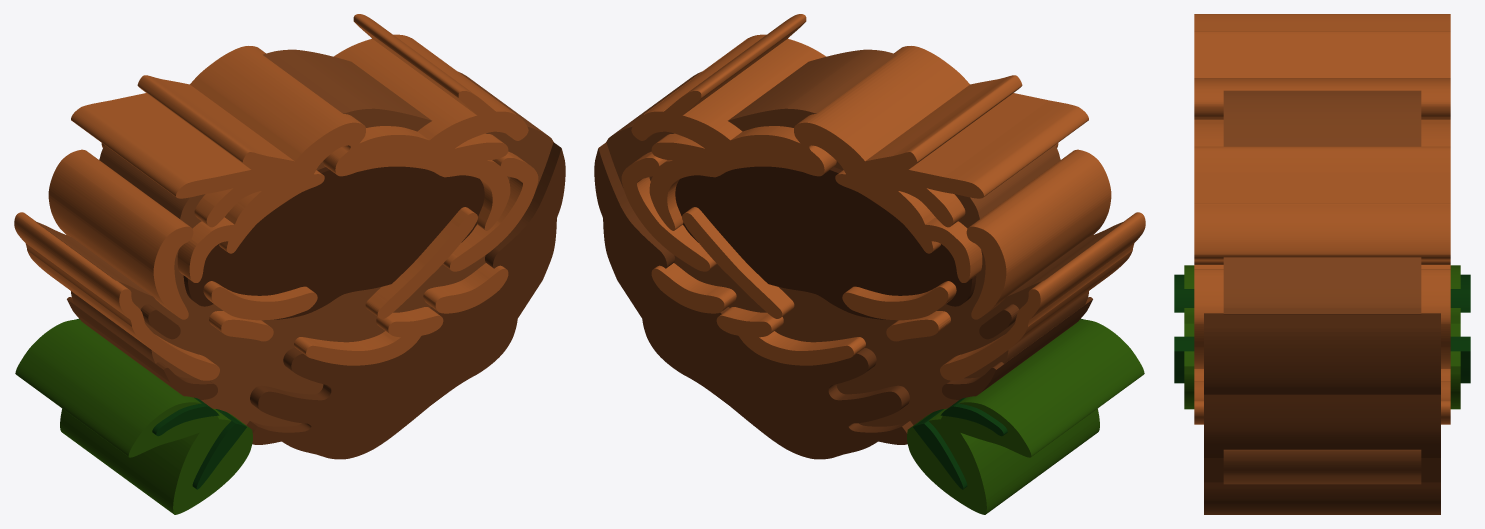
Rendered from U+1FAB9.obj.
The picture shows the model from 3 angles, left to right: view 1: azimuth 30°, elevation 25°; view 2: azimuth 150°, elevation 25°; view 3: azimuth 270°, elevation 25°; orthographic projection. The views are drawn at different scales.
Parts seen in each view (by area): view 1: U+1FAB9_layer03_obj07, U+1FAB9_layer00_obj00, U+1FAB9_layer02_obj01, U+1FAB9_layer01_obj00, U+1FAB9_layer04_obj00, U+1FAB9_layer03_obj06, U+1FAB9_layer03_obj05, U+1FAB9_layer03_obj02, U+1FAB9_layer03_obj00, U+1FAB9_layer03_obj04, U+1FAB9_layer03_obj01, U+1FAB9_layer02_obj00 (+4 smaller); view 2: U+1FAB9_layer03_obj07, U+1FAB9_layer00_obj00, U+1FAB9_layer02_obj01, U+1FAB9_layer01_obj00, U+1FAB9_layer04_obj00, U+1FAB9_layer03_obj06, U+1FAB9_layer03_obj05, U+1FAB9_layer03_obj02, U+1FAB9_layer03_obj00, U+1FAB9_layer03_obj04, U+1FAB9_layer03_obj01, U+1FAB9_layer02_obj00 (+4 smaller); view 3: U+1FAB9_layer03_obj07, U+1FAB9_layer02_obj01, U+1FAB9_layer00_obj00, U+1FAB9_layer00_obj02, U+1FAB9_layer04_obj00, U+1FAB9_layer05_obj00, U+1FAB9_layer05_obj01, U+1FAB9_layer03_obj01.
Boxes of the visible parts, x1,y1,x2,y2 form: U+1FAB9_layer03_obj07: (71, 14, 538, 282); U+1FAB9_layer00_obj00: (35, 49, 553, 426); U+1FAB9_layer02_obj01: (246, 142, 565, 459); U+1FAB9_layer01_obj00: (183, 166, 484, 319); U+1FAB9_layer04_obj00: (15, 319, 252, 514); U+1FAB9_layer03_obj06: (48, 149, 193, 319); U+1FAB9_layer03_obj05: (14, 212, 219, 380); U+1FAB9_layer03_obj02: (294, 307, 443, 365); U+1FAB9_layer03_obj00: (365, 207, 477, 318); U+1FAB9_layer03_obj04: (203, 281, 317, 320); U+1FAB9_layer03_obj01: (423, 263, 508, 313); U+1FAB9_layer02_obj00: (67, 297, 217, 399); U+1FAB9_layer03_obj07: (621, 14, 1088, 282); U+1FAB9_layer00_obj00: (606, 49, 1124, 426); U+1FAB9_layer02_obj01: (594, 142, 913, 459); U+1FAB9_layer01_obj00: (675, 166, 976, 319); U+1FAB9_layer04_obj00: (907, 319, 1144, 514); U+1FAB9_layer03_obj06: (966, 149, 1111, 319); U+1FAB9_layer03_obj05: (940, 212, 1145, 380); U+1FAB9_layer03_obj02: (716, 307, 865, 365); U+1FAB9_layer03_obj00: (682, 207, 794, 318); U+1FAB9_layer03_obj04: (842, 281, 956, 320); U+1FAB9_layer03_obj01: (651, 263, 736, 313); U+1FAB9_layer02_obj00: (942, 297, 1092, 399); U+1FAB9_layer03_obj07: (1194, 14, 1450, 368); U+1FAB9_layer02_obj01: (1204, 313, 1440, 514); U+1FAB9_layer00_obj00: (1223, 90, 1421, 314); U+1FAB9_layer00_obj02: (1223, 449, 1421, 484); U+1FAB9_layer04_obj00: (1184, 265, 1460, 409); U+1FAB9_layer05_obj00: (1174, 336, 1470, 383); U+1FAB9_layer05_obj01: (1174, 274, 1470, 312); U+1FAB9_layer03_obj01: (1194, 381, 1450, 424).
Size of the model in its own units: 0.3219 by 0.2391 by 0.15.
